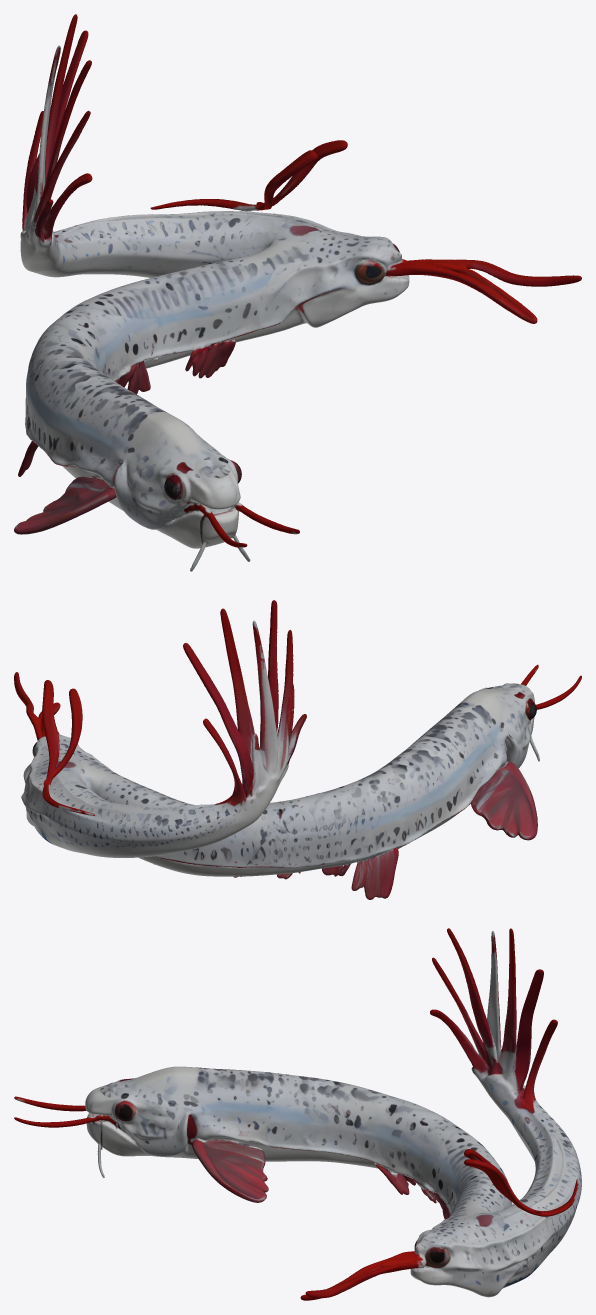
Rendered from oarZ_1.glb.
3 views of the same model, one above another, from view 1: azimuth 30°, elevation 25°; view 2: azimuth 150°, elevation 25°; view 3: azimuth 270°, elevation 25° (orthographic). The views are drawn at different scales.
Parts seen in each view (by area): view 1: tripo_node_9db16147-2950-4425-aeb5-b315b58bb0cd; view 2: tripo_node_9db16147-2950-4425-aeb5-b315b58bb0cd; view 3: tripo_node_9db16147-2950-4425-aeb5-b315b58bb0cd.
Part boxes in pixels (x1,y1,x2,y2): tripo_node_9db16147-2950-4425-aeb5-b315b58bb0cd: (14, 14, 581, 571); tripo_node_9db16147-2950-4425-aeb5-b315b58bb0cd: (14, 600, 581, 899); tripo_node_9db16147-2950-4425-aeb5-b315b58bb0cd: (14, 928, 581, 1300).
Size of the model in its own units: 0.9945 by 0.597 by 1.
1 material, 1 textured.
